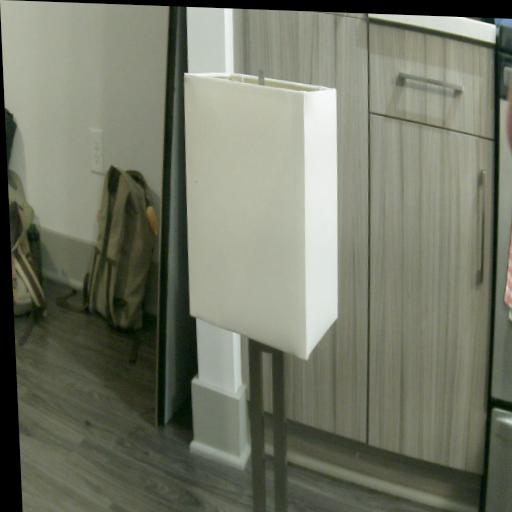lamp: (179, 70, 356, 512)
